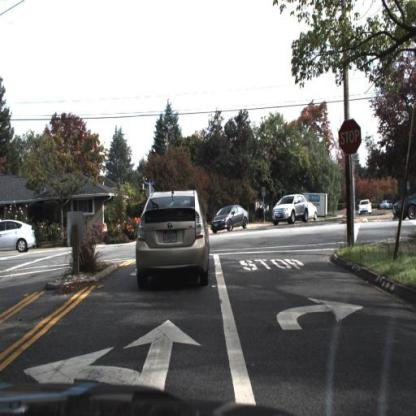car: (137, 193, 211, 287), (1, 219, 38, 257), (211, 202, 249, 235), (272, 192, 309, 224), (358, 200, 374, 216)
